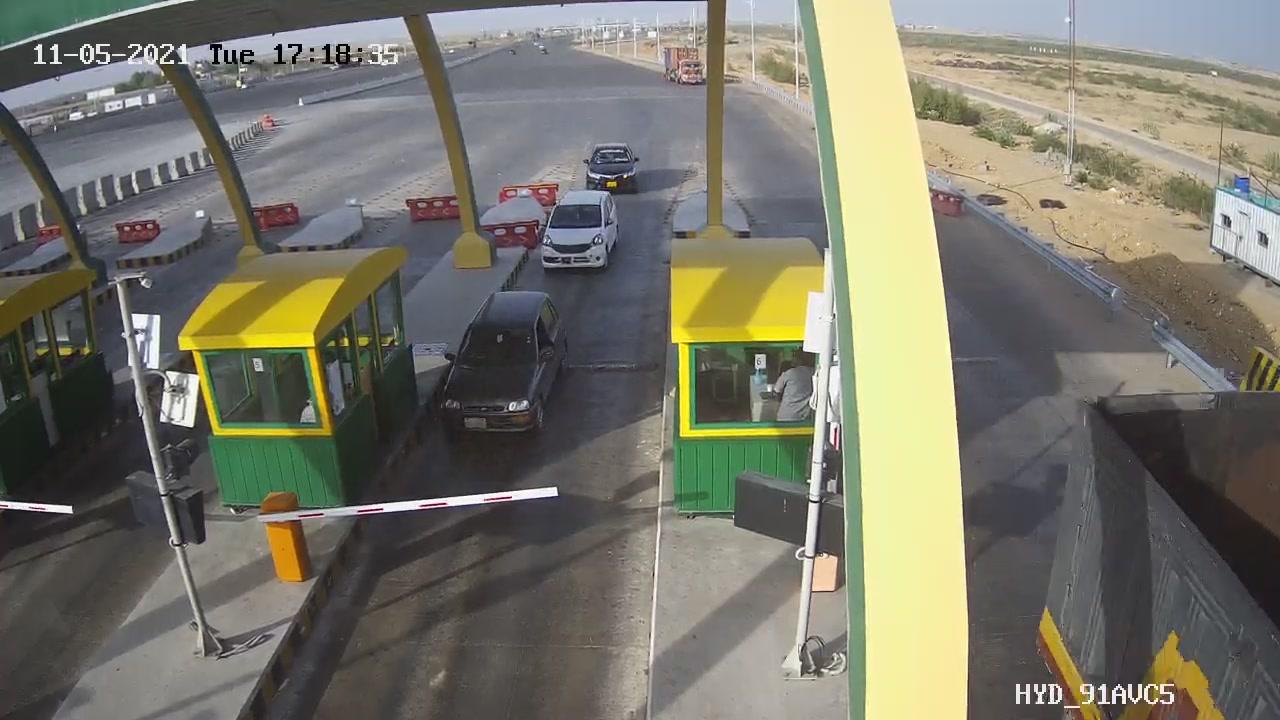F1: (420, 279, 582, 451), (529, 181, 630, 288)
